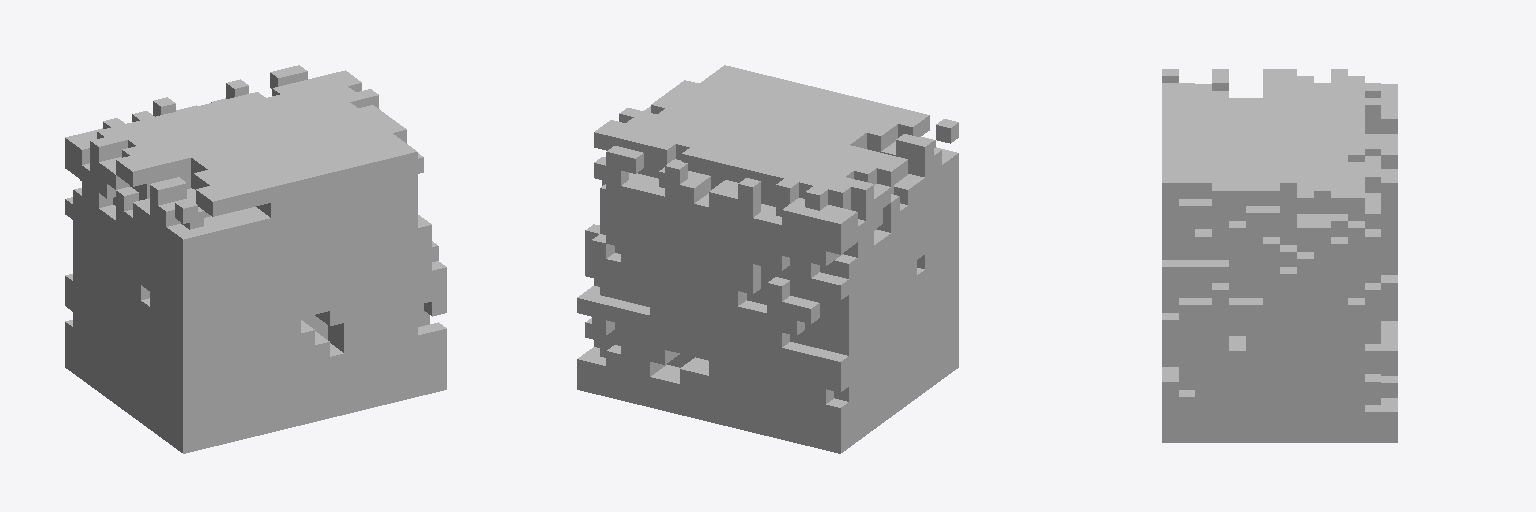
Rendered from House1-0.obj.
3 views of the same model, side by side, from view 1: azimuth 30°, elevation 25°; view 2: azimuth 150°, elevation 25°; view 3: azimuth 270°, elevation 25° (orthographic).
Visible parts, largest first — view 1: object 1; view 2: object 1; view 3: object 1.
Boxes of the visible parts, x1=… form: object 1: x1=65, y1=65, x2=446, y2=453; object 1: x1=577, y1=65, x2=958, y2=453; object 1: x1=1162, y1=69, x2=1397, y2=442.
Bounding box in the file's own units: 1.8 × 1.6 × 1.4.